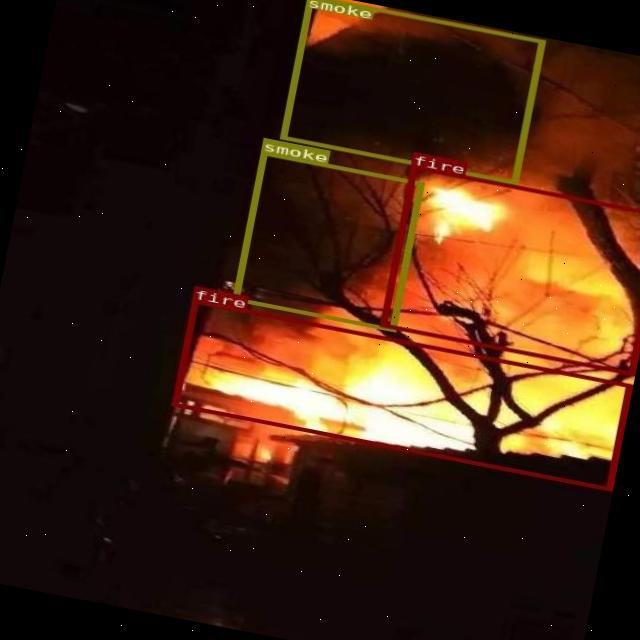fire: (172, 298, 630, 490), (378, 164, 640, 374)
smoke: (279, 0, 545, 184), (231, 150, 422, 332)
